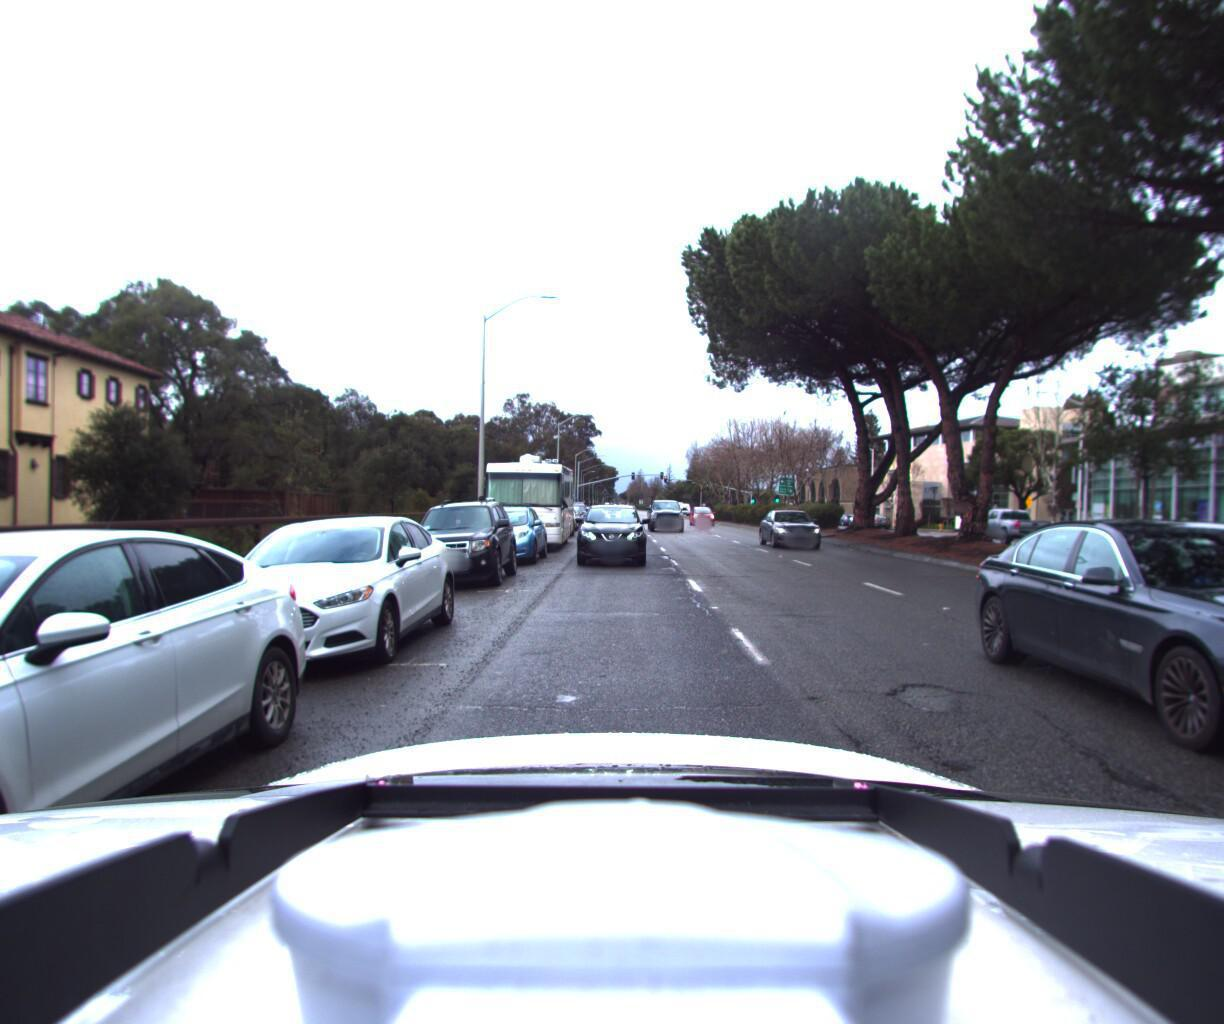car: (0, 519, 336, 1024), (999, 511, 1224, 929), (154, 515, 460, 699), (394, 495, 516, 594), (468, 504, 545, 568), (572, 505, 646, 570), (1118, 519, 1209, 556), (953, 501, 1041, 539), (759, 509, 828, 551), (1011, 517, 1078, 549), (647, 505, 684, 539), (687, 507, 717, 528)
other_vehicle: (476, 440, 576, 563)
